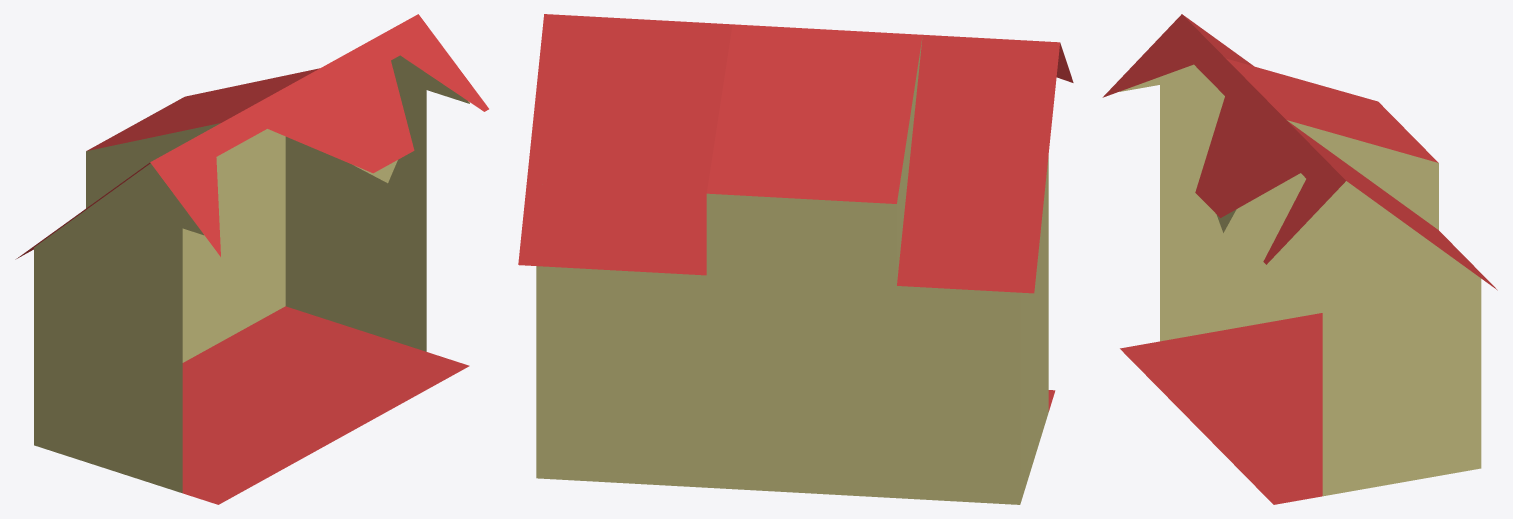
The picture shows the model from 3 angles, left to right: view 1: azimuth 30°, elevation 25°; view 2: azimuth 150°, elevation 25°; view 3: azimuth 270°, elevation 25°; orthographic projection. The views are drawn at different scales.
Size of the model in its own units: 18.32 by 14.79 by 13.05.
